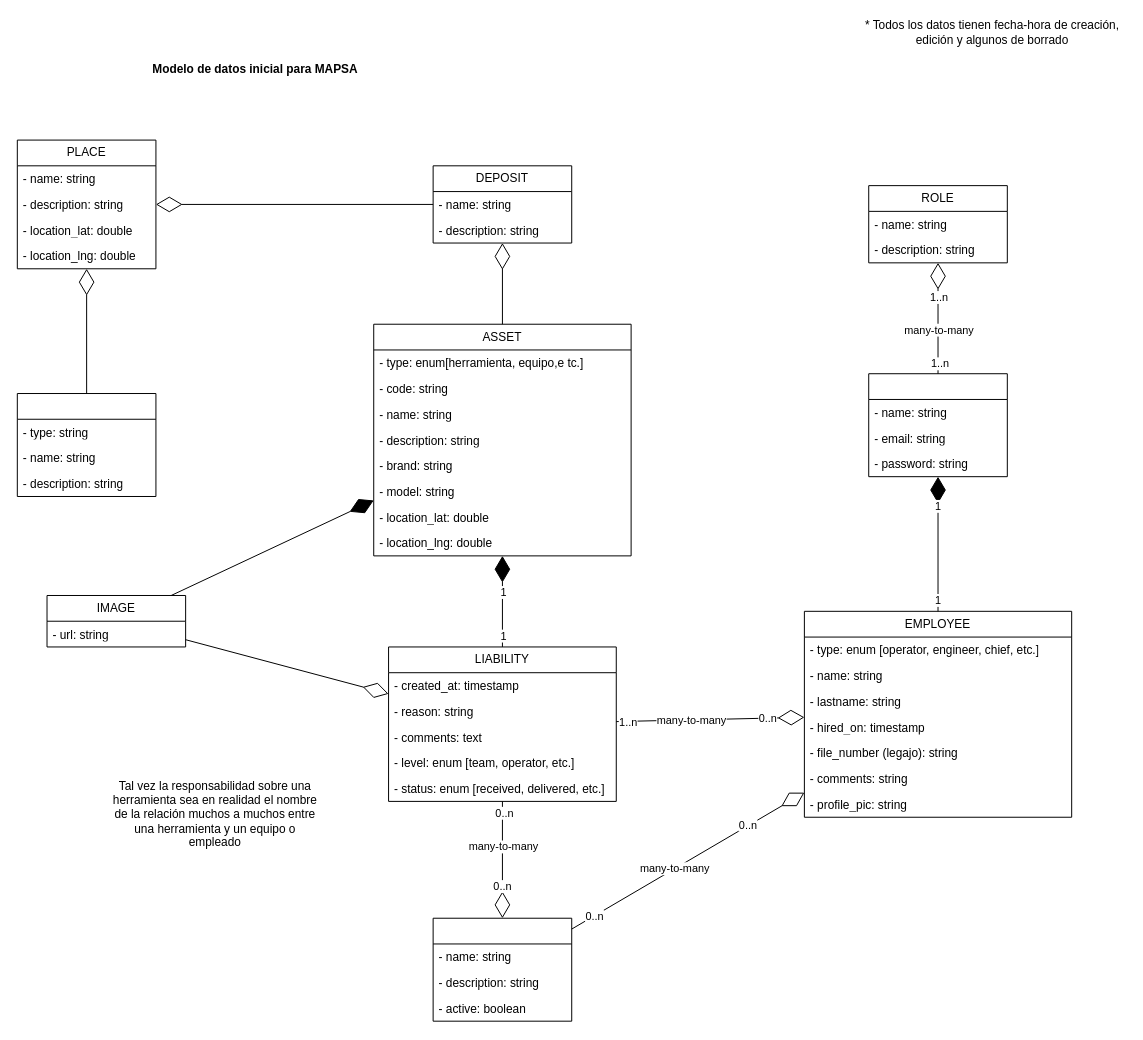
This 1143x1040 diagram has some shape labels left out. Here are the shapes that lost their labels. From the top down, the box of each, then its label:
(16, 393, 156, 496): PROJECT
(868, 373, 1007, 477): USER
(432, 917, 572, 1021): TEAM
